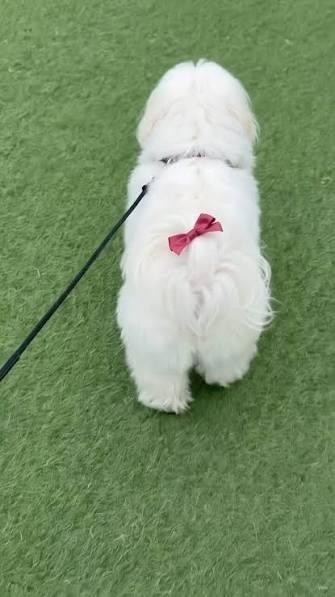adult_dog: (116, 59, 274, 414)
